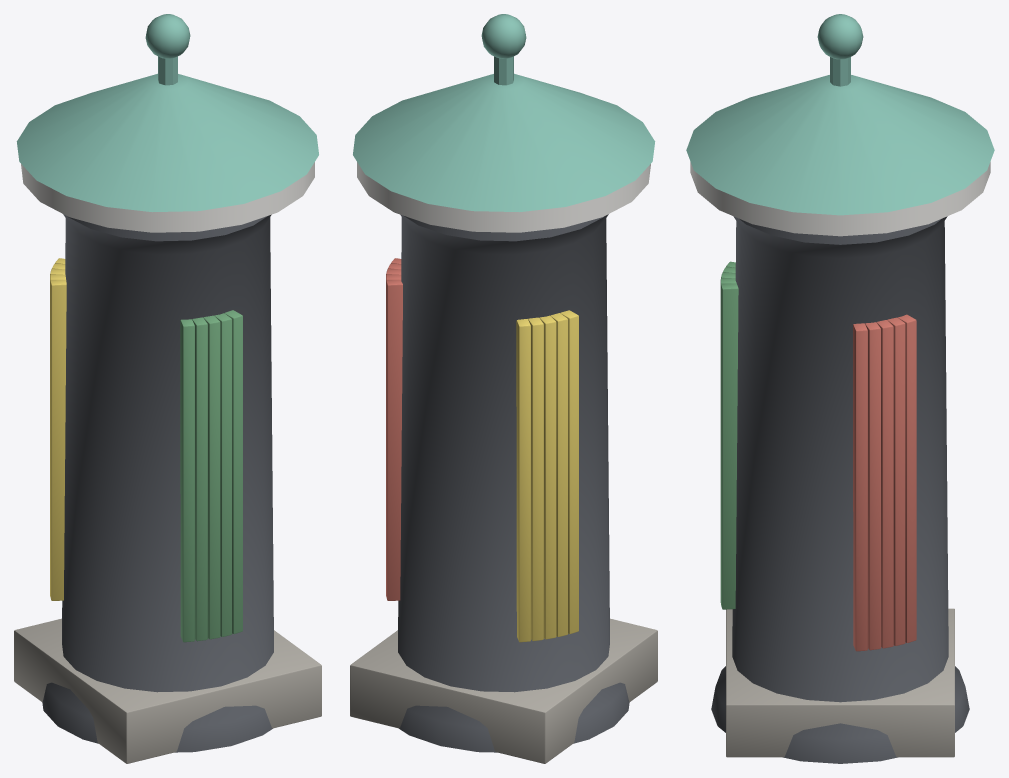
Rendered from th48_litfass.glb.
3 views of the same model, side by side, from view 1: azimuth 30°, elevation 25°; view 2: azimuth 150°, elevation 25°; view 3: azimuth 270°, elevation 25° (orthographic).
Visible parts, largest first — view 1: Saeule, Cone, Cube.015, Cylinder, Cube.009, Cube.010, Cube.011, Cube.012, Cube.013, Cube.014, Sphere, Cylinder.001; view 2: Saeule, Cone, Cube.015, Cylinder, Cube.004, Cube.005, Cube.006, Cube.007, Cube.008, Cube.009, Sphere, Cylinder.001; view 3: Saeule, Cone, Cube.015, Cylinder, Cube.014, Cube, Cube.002, Cube.003, Cube.001, Cube.004, Sphere, Cylinder.001.
Part boxes in pixels (x1,y1,x2,y2): Saeule: (42,214,273,752); Cone: (16,73,318,212); Cube.015: (14,618,321,763); Cylinder: (21,162,314,232); Cube.009: (50,279,66,600); Cube.010: (180,319,194,642); Cube.011: (192,317,207,641); Cube.012: (203,315,220,639); Cube.013: (214,313,231,636); Cube.014: (224,310,242,633); Sphere: (145,14,190,58); Cylinder.001: (158,56,177,85); Saeule: (398,214,629,752); Cone: (353,73,655,212); Cube.015: (350,618,657,763); Cylinder: (357,162,650,232); Cube.004: (386,279,402,600); Cube.005: (516,319,530,642); Cube.006: (528,317,543,641); Cube.007: (539,315,556,639); Cube.008: (550,313,567,636); Cube.009: (560,310,578,633); Sphere: (481,14,526,58); Cylinder.001: (494,56,513,85); Saeule: (711,216,969,763); Cone: (686,75,994,215); Cube.015: (726,608,954,757); Cylinder: (690,162,990,236); Cube.014: (721,283,738,609); Cube: (853,323,867,651); Cube.002: (876,320,893,648); Cube.003: (887,317,905,645); Cube.001: (865,322,880,650); Cube.004: (898,314,916,642); Sphere: (817,14,863,59); Cylinder.001: (830,57,850,86).
Bounding box in the file's own units: 1.48 × 3.67 × 1.48.
